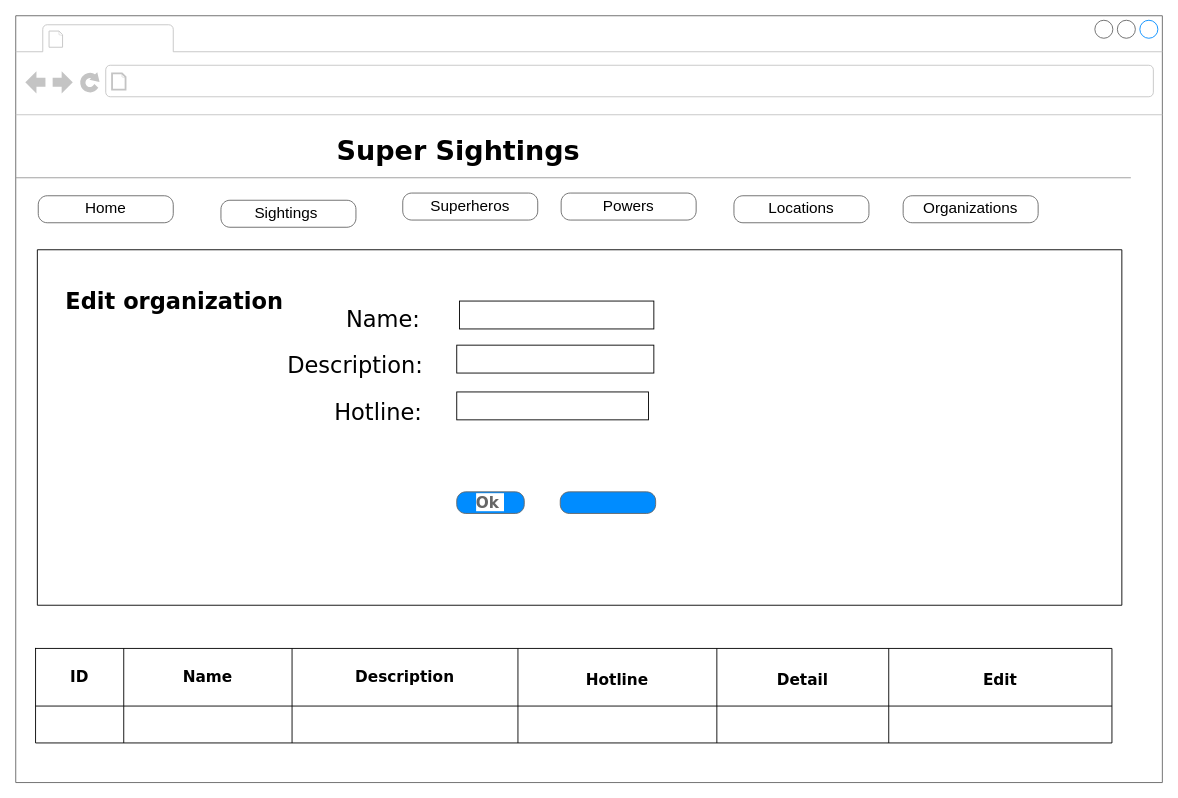
Image size: 1178x798. Some labels were removed from this diagram. Here are the shapes that lost their labels. From the top down, the centre of each, then its label:
the point at 119,38: Page 9
the point at 308,81: https://localhost:8080/editOrganization?id=1
the point at 607,502: Cancel
